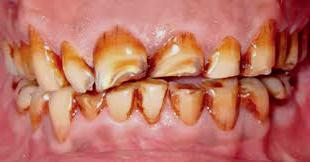Calculus: (90, 21, 152, 93), (146, 22, 207, 83), (21, 24, 66, 88), (237, 16, 282, 80), (165, 74, 205, 131), (204, 75, 241, 134), (134, 71, 172, 126), (60, 34, 96, 90), (236, 72, 274, 124), (203, 32, 245, 78), (44, 88, 75, 143), (103, 79, 137, 124), (73, 82, 105, 122), (26, 84, 48, 129), (269, 27, 292, 70)
